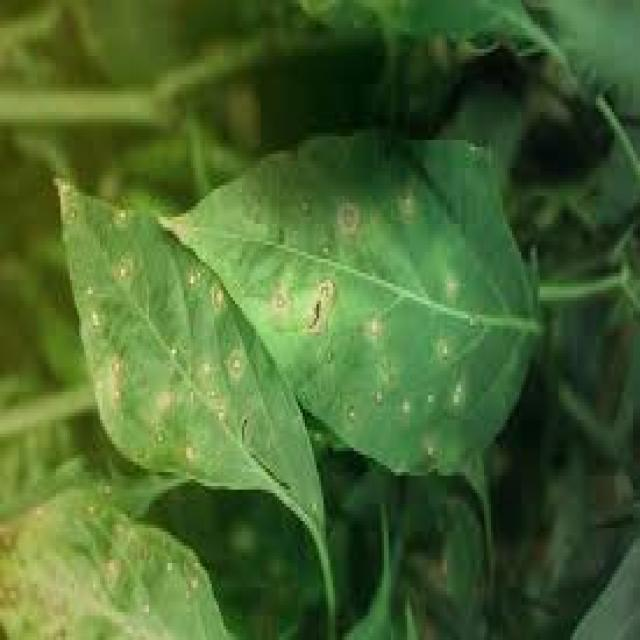bercak_daun: (162, 130, 547, 476), (53, 182, 334, 502)
